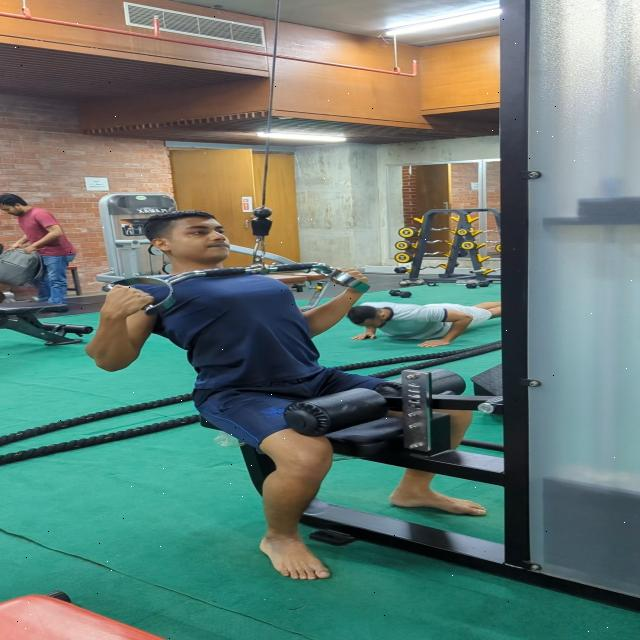Normal_LatPulldown: (80, 198, 492, 585)
